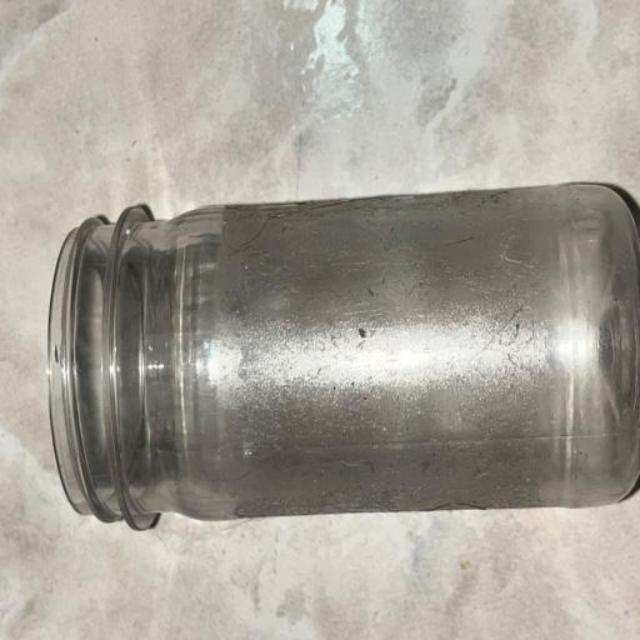PET: (30, 134, 640, 612)
